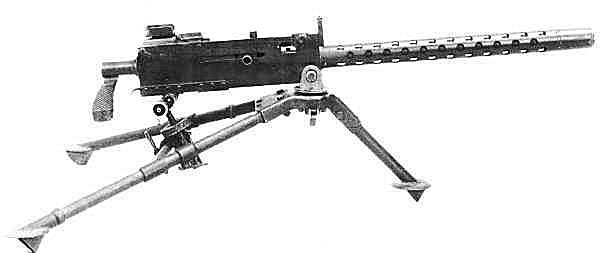rifle: (50, 19, 583, 215)
